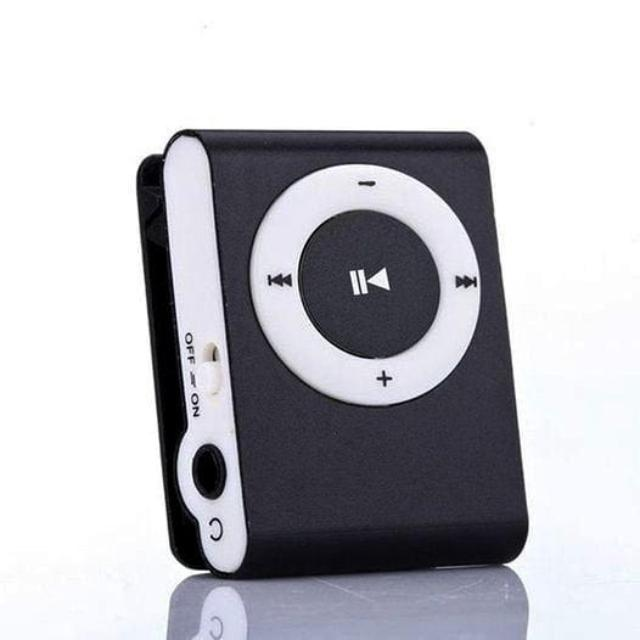Music-Player: (132, 124, 536, 584)
